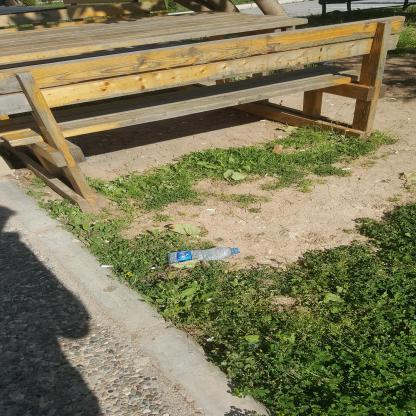plastik: (247, 176, 265, 251)
